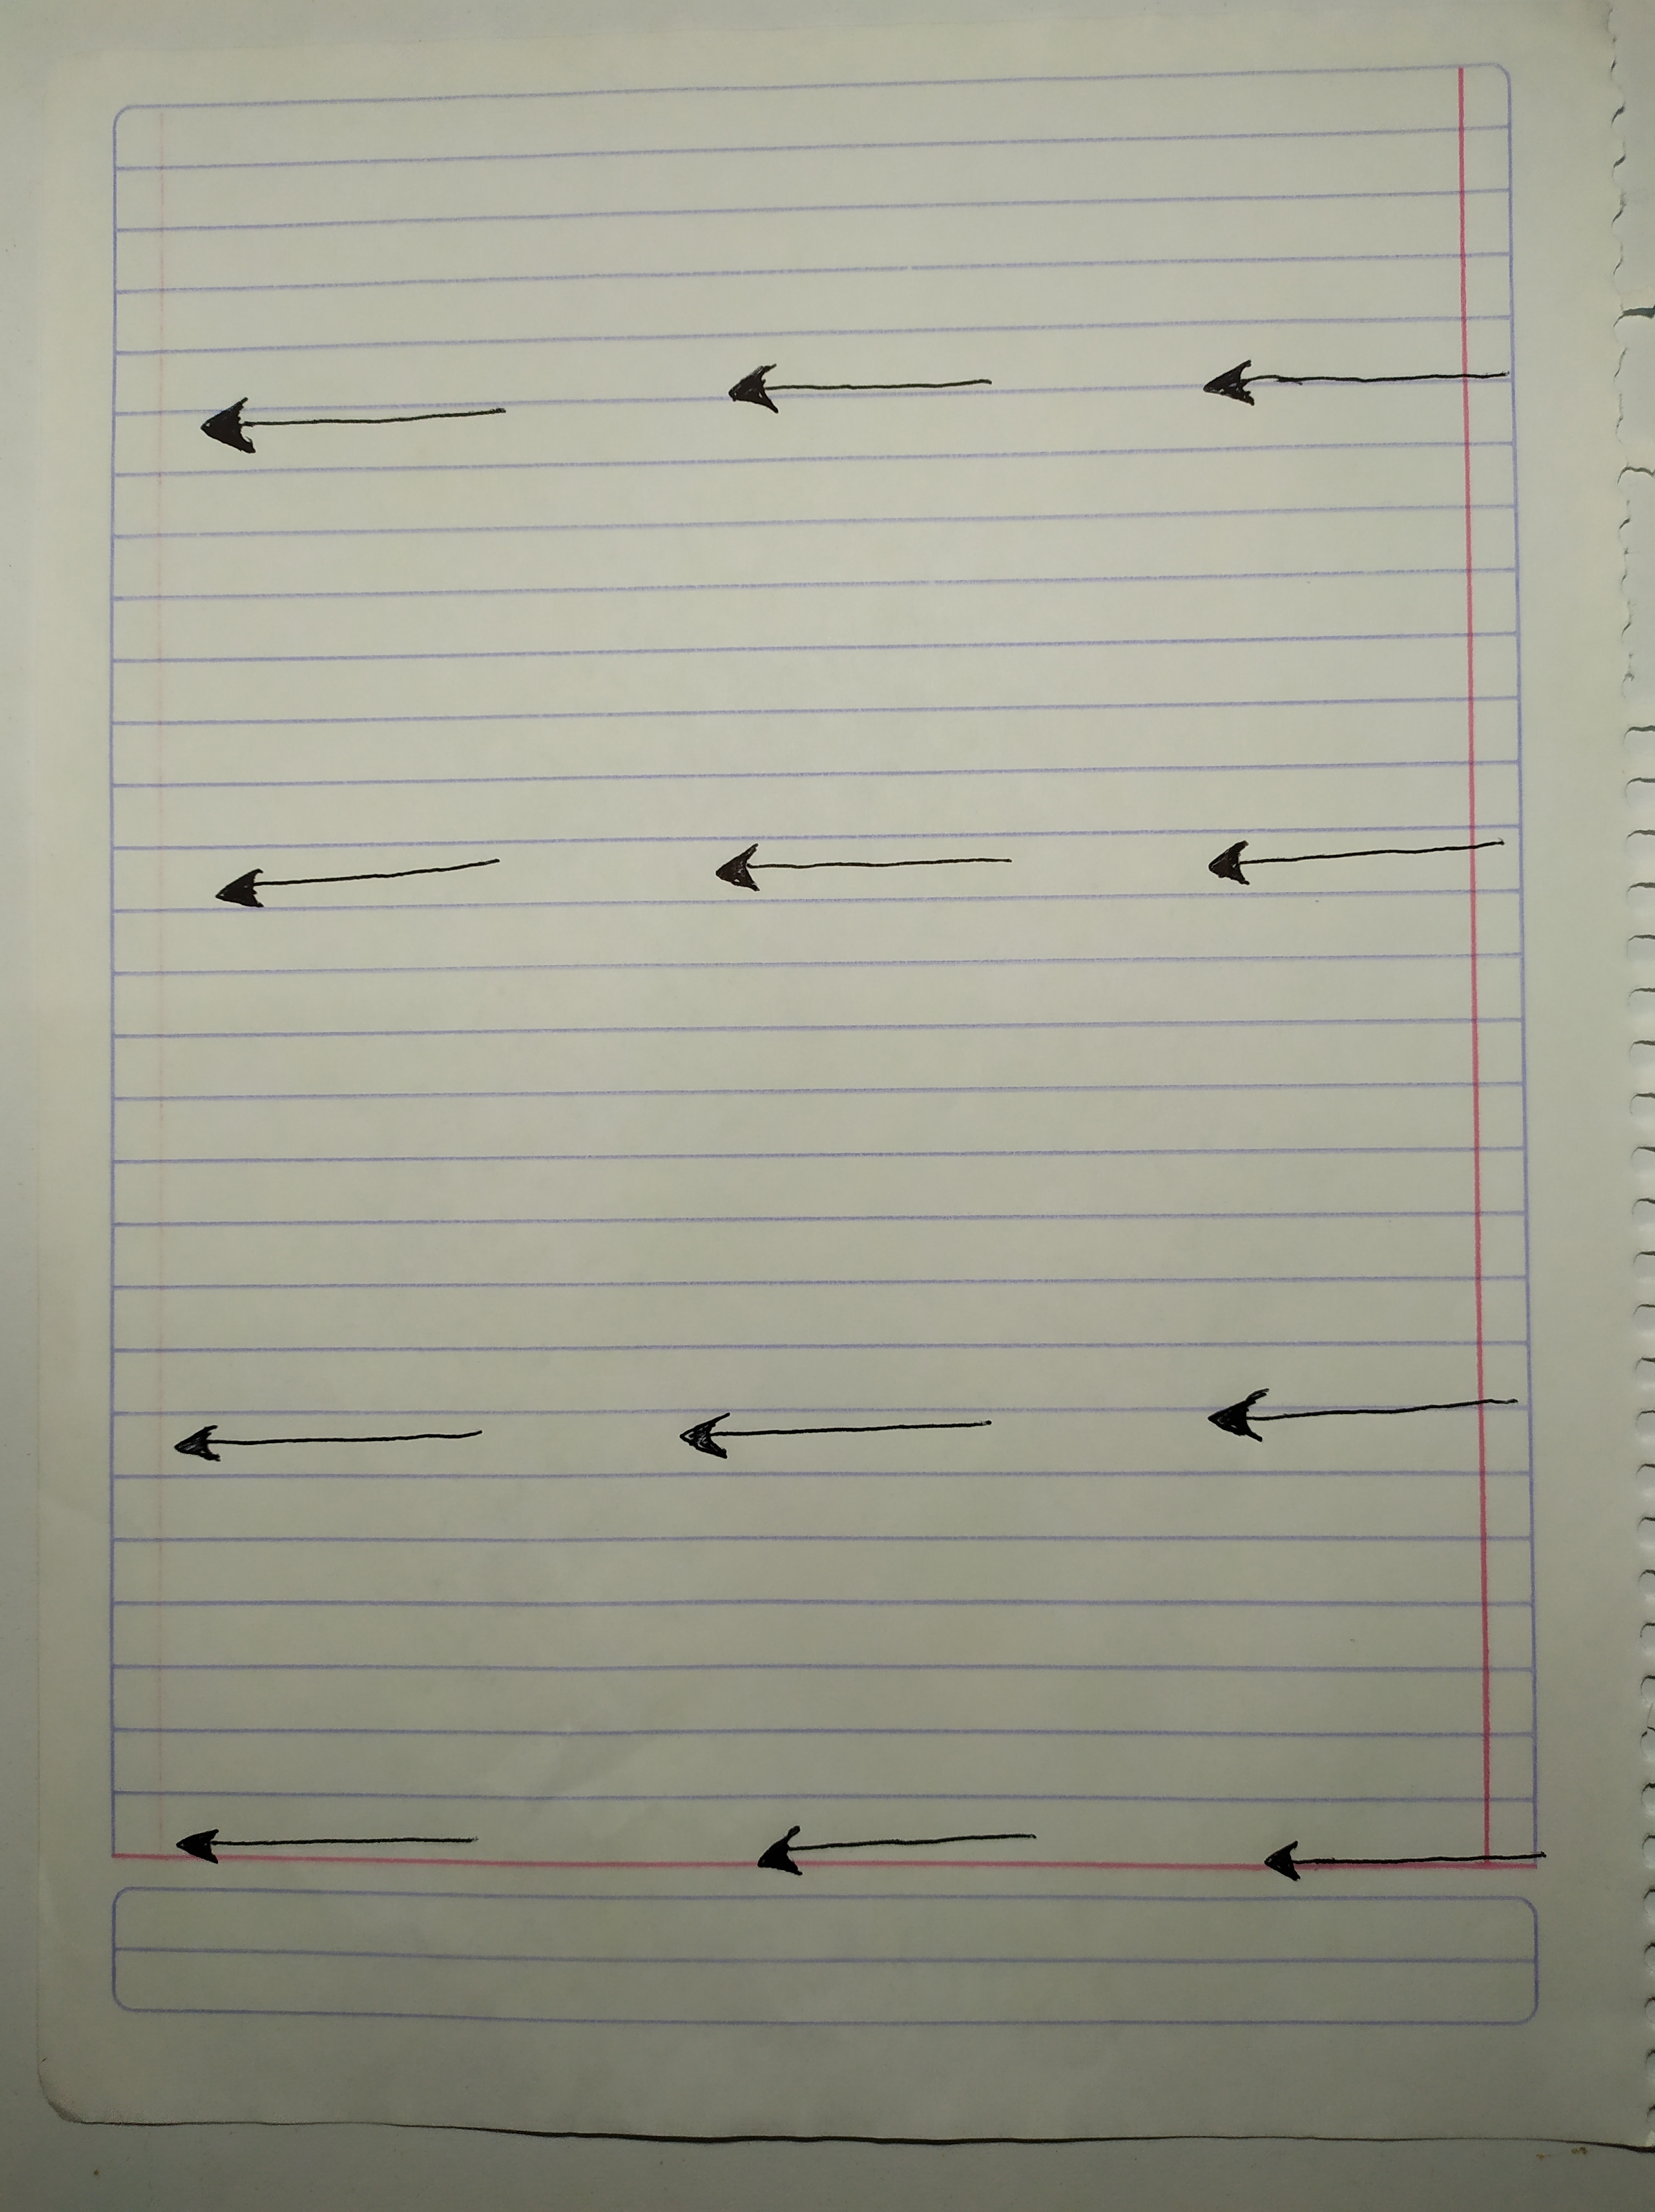arrow_line_left: (1168, 1373, 1566, 1468), (1177, 339, 1542, 440), (176, 374, 532, 476), (193, 822, 530, 926), (692, 342, 1040, 443), (675, 822, 1048, 912), (723, 1805, 1069, 1901), (648, 1397, 1029, 1482), (143, 1402, 516, 1487), (1173, 818, 1537, 900), (150, 1811, 523, 1882), (1243, 1825, 1572, 1894)
